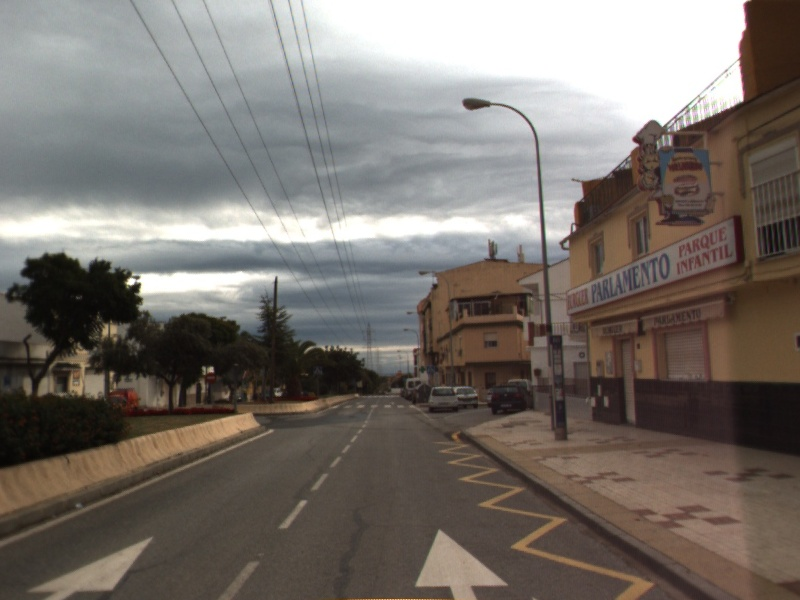STRAIGHT: (22, 533, 156, 600), (412, 526, 510, 600)
